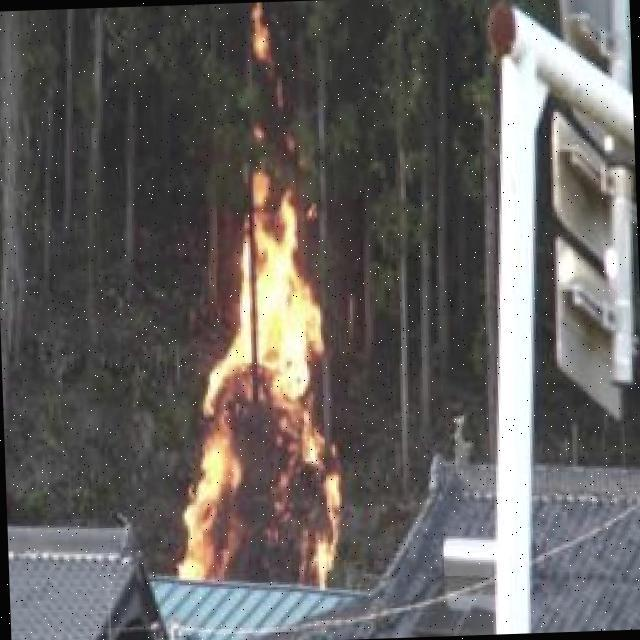Fire: (180, 181, 342, 591)
